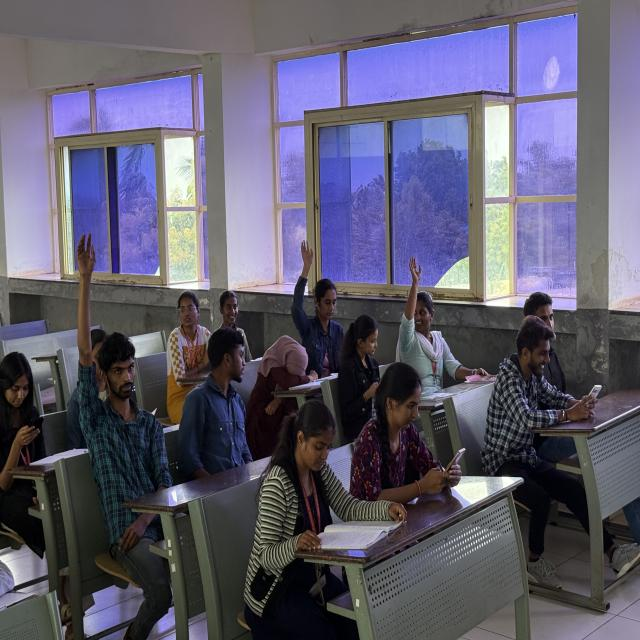Hand Rising: (75, 224, 181, 524), (397, 242, 468, 398), (288, 230, 349, 370)
Reading: (272, 403, 396, 620)
Sleeping: (251, 329, 319, 425)
Using Phone: (364, 352, 478, 528), (507, 314, 611, 476), (2, 338, 60, 499)
